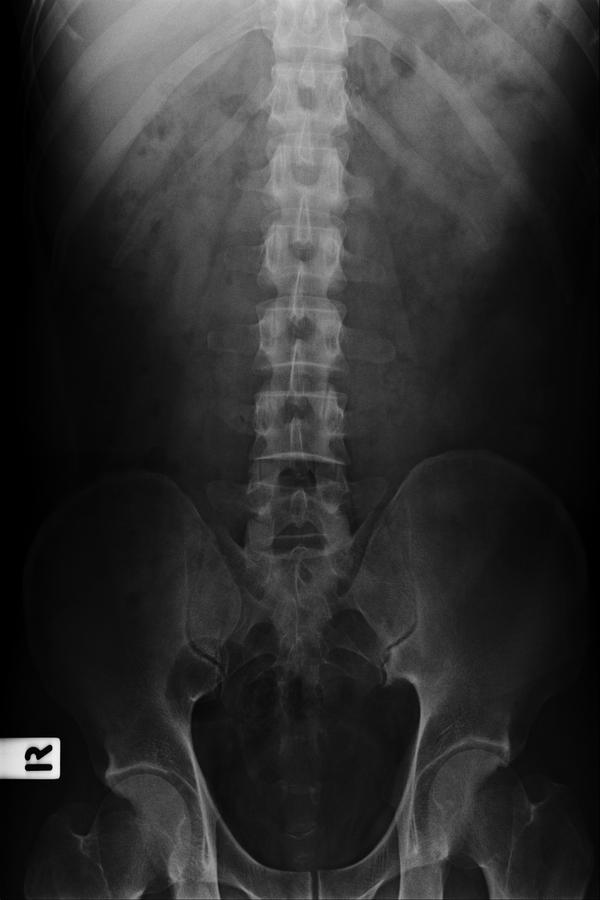not lumbar scoliosis: (248, 221, 354, 575)
